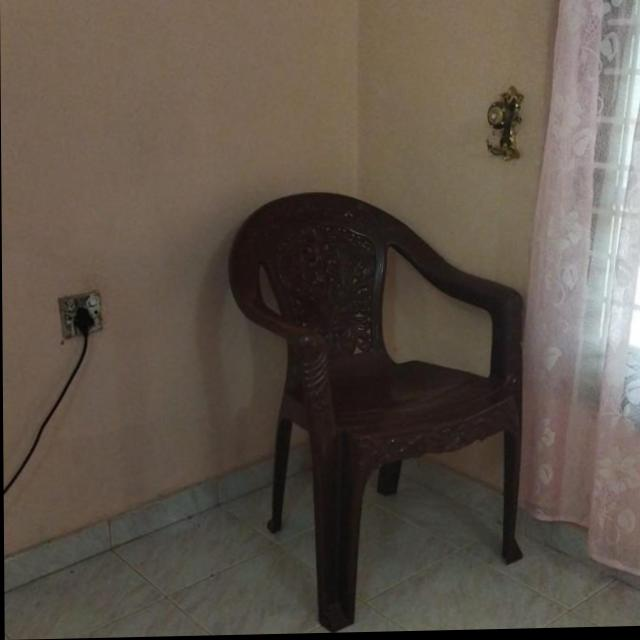Chair: (224, 187, 530, 634)
